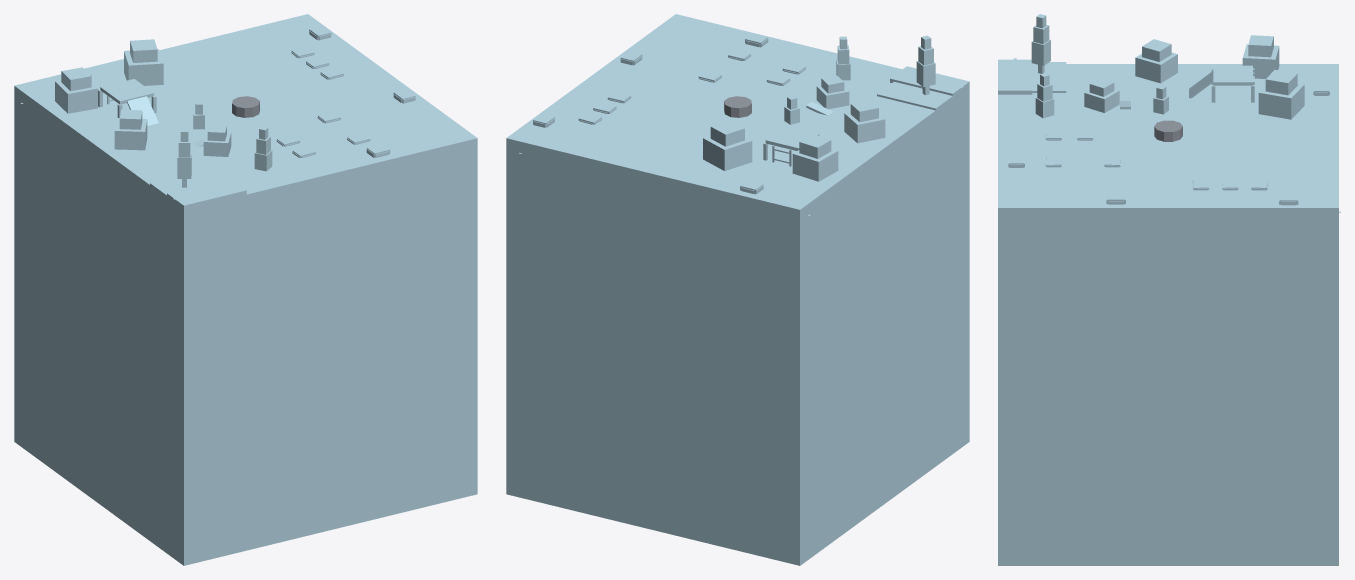
File: block_23_undergroundtanks_100.glb
3 renders of one model, left to right at view 1: azimuth 30°, elevation 25°; view 2: azimuth 150°, elevation 25°; view 3: azimuth 270°, elevation 25°, orthographic.
Visible parts, largest first — view 1: Patch_UpperRight_b23_UT, Roads_UpperRight_b23_UT, Resid_UpperRight_b23_UT, PlayEquip_UpperRight_b23_UT, RTree_45_UT, RTree_46_UT, RTree_43_UT, RTree_42_UT, RTree_40_UT, RTree_41_UT; view 2: Patch_UpperRight_b23_UT, Roads_UpperRight_b23_UT, Resid_UpperRight_b23_UT, RTree_46_UT, RTree_45_UT, RTree_43_UT, PlayEquip_UpperRight_b23_UT, RTree_42_UT, RTree_40_UT; view 3: Patch_UpperRight_b23_UT, Roads_UpperRight_b23_UT, RTree_46_UT, Resid_UpperRight_b23_UT, RTree_43_UT, PlayEquip_UpperRight_b23_UT, RTree_45_UT, RTree_42_UT, RTree_40_UT, RTree_41_UT, UT_TankUnit_23.
Part boxes in pixels (x1,y1,x2,y2): Patch_UpperRight_b23_UT: (14, 14, 477, 565); Roads_UpperRight_b23_UT: (16, 100, 477, 210); Resid_UpperRight_b23_UT: (16, 102, 477, 211); PlayEquip_UpperRight_b23_UT: (98, 79, 204, 146); RTree_45_UT: (55, 67, 97, 113); RTree_46_UT: (124, 39, 163, 85); RTree_43_UT: (114, 109, 147, 150); RTree_42_UT: (203, 124, 231, 156); RTree_40_UT: (177, 128, 191, 187); RTree_41_UT: (254, 126, 272, 171); Patch_UpperRight_b23_UT: (506, 14, 969, 565); Roads_UpperRight_b23_UT: (506, 66, 969, 224); Resid_UpperRight_b23_UT: (507, 81, 969, 225); RTree_46_UT: (703, 120, 752, 170); RTree_45_UT: (792, 134, 838, 181); RTree_43_UT: (844, 100, 885, 143); PlayEquip_UpperRight_b23_UT: (763, 101, 833, 166); RTree_42_UT: (816, 75, 849, 109); RTree_40_UT: (916, 35, 935, 95); Patch_UpperRight_b23_UT: (998, 64, 1338, 565); Roads_UpperRight_b23_UT: (998, 59, 1338, 224); RTree_46_UT: (1258, 69, 1304, 119); Resid_UpperRight_b23_UT: (998, 62, 1338, 224); RTree_43_UT: (1135, 39, 1177, 83); PlayEquip_UpperRight_b23_UT: (1120, 65, 1254, 109); RTree_45_UT: (1242, 35, 1279, 78); RTree_42_UT: (1084, 78, 1119, 112); RTree_40_UT: (1031, 14, 1050, 73); RTree_41_UT: (1035, 73, 1054, 118); UT_TankUnit_23: (1154, 120, 1182, 141).
Bounding box in the file's own units: 9.55 × 12.8 × 9.55.
